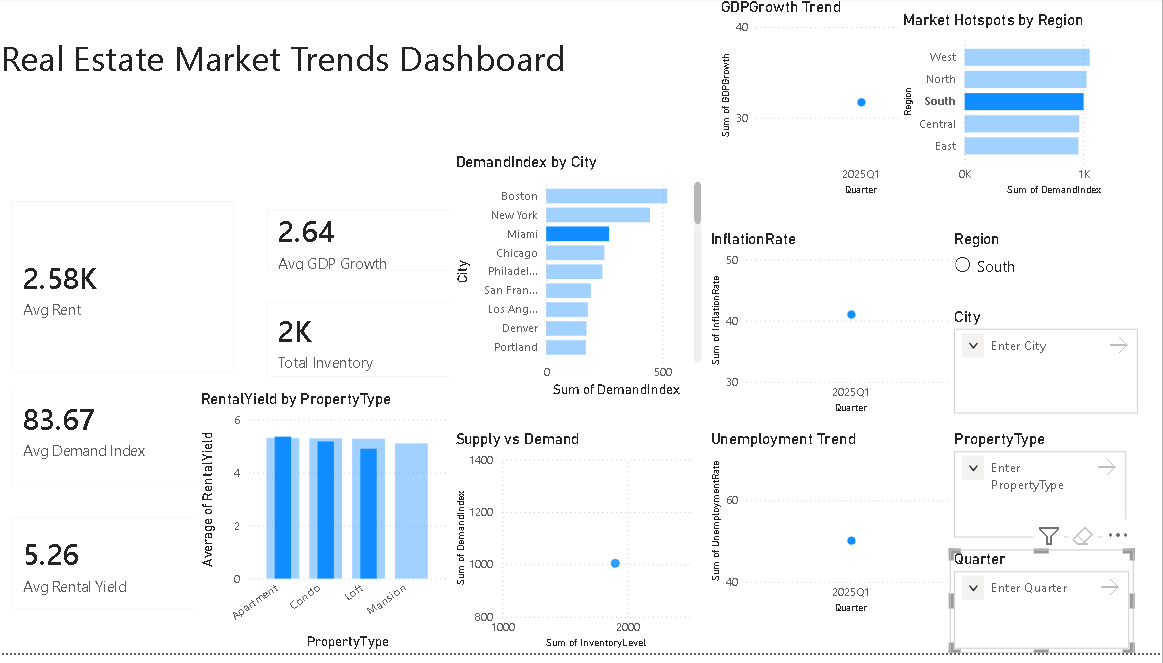

The page's visual inventory and layout, read from the dashboard file:
{"tool":"powerbi","page":{"name":"Page 1","canvas":[1280,720],"ordinal":0},"visuals":[{"type":"cardVisual","fields":{"Data":["real_estate_market_data.Avg Demand Index"]},"box":[0,392.5,279.9,161.9],"z":0},{"type":"cardVisual","fields":{"Data":["real_estate_market_data.Total Inventory"]},"box":[279.9,318.4,279.9,116.6],"z":1000},{"type":"cardVisual","fields":{"Data":["real_estate_market_data.Avg Rental Yield"]},"box":[0,554.4,279.9,135.8],"z":2000},{"type":"cardVisual","fields":{"Data":["real_estate_market_data.Avg GDP Growth"]},"box":[279.9,216.8,279.9,101.5],"z":3000},{"type":"cardVisual","fields":{"Data":["real_estate_market_data.Avg Rent"]},"box":[0,207.2,279.9,222.3],"z":4000},{"type":"clusteredColumnChart","title":"RentalYield by PropertyType","fields":{"Category":["real_estate_market_data.PropertyType"],"Y":["Avg(real_estate_market_data.RentalYield)"]},"box":[219.6,430.9,279.9,289.5],"z":5000},{"type":"clusteredBarChart","title":"DemandIndex by City","fields":{"Category":["real_estate_market_data.City"],"Y":["Sum(real_estate_market_data.DemandIndex)"]},"box":[499.5,170.2,279.9,274.4],"z":6000},{"type":"scatterChart","title":"Supply vs Demand","fields":{"X":["Sum(real_estate_market_data.InventoryLevel)"],"Y":["Sum(real_estate_market_data.DemandIndex)"]},"box":[499.5,474.8,279.9,245.6],"z":7000},{"type":"lineChart","title":"GDPGrowth Trend","fields":{"Category":["real_estate_market_data.Quarter"],"Y":["Sum(real_estate_market_data.GDPGrowth)"]},"box":[790.4,0,279.9,222.3],"z":8000},{"type":"lineChart","title":"InflationRate ","fields":{"Category":["real_estate_market_data.Quarter"],"Y":["Sum(real_estate_market_data.InflationRate)"]},"box":[779.4,255.2,279.9,207.2],"z":9000},{"type":"lineChart","title":"Unemployment Trend ","fields":{"Category":["real_estate_market_data.Quarter"],"Y":["Sum(real_estate_market_data.UnemploymentRate)"]},"box":[779.4,474.8,279.9,207.2],"z":10000},{"type":"clusteredBarChart","title":"Market Hotspots by Region","fields":{"Category":["real_estate_market_data.Region"],"Y":["Sum(real_estate_market_data.DemandIndex)"]},"box":[990.7,15.1,279.9,207.2],"z":11000},{"type":"textbox","box":[0,0,725.9,170.2],"z":11001},{"type":"listSlicer","fields":{"Values":["real_estate_market_data.Region"]},"box":[1047,255.2,223.7,94.7],"z":11002},{"type":"textSlicer","fields":{"Values":["real_estate_market_data.City"]},"box":[1047,340.3,211.3,122.1],"z":11003},{"type":"textSlicer","fields":{"Values":["real_estate_market_data.PropertyType"]},"box":[1047,474.8,199,123.5],"z":11004},{"type":"textSlicer","fields":{"Values":["real_estate_market_data.Quarter"]},"box":[1047,606.5,201.7,113.9],"z":11005}]}

Visuals, with their boxes in screenshot pixels (x1, y1, x2, y2), scaled from the page's 1280x720 canvas onto the 1163x663 screenshot:
cardVisual - real_estate_market_data.Avg Demand Index: <region>0, 361, 254, 511</region>
cardVisual - real_estate_market_data.Total Inventory: <region>254, 293, 509, 401</region>
cardVisual - real_estate_market_data.Avg Rental Yield: <region>0, 511, 254, 636</region>
cardVisual - real_estate_market_data.Avg GDP Growth: <region>254, 200, 509, 293</region>
cardVisual - real_estate_market_data.Avg Rent: <region>0, 191, 254, 395</region>
"RentalYield by PropertyType" clusteredColumnChart: <region>200, 397, 454, 662</region>
"DemandIndex by City" clusteredBarChart: <region>454, 157, 708, 409</region>
"Supply vs Demand" scatterChart: <region>454, 437, 708, 662</region>
"GDPGrowth Trend" lineChart: <region>718, 0, 972, 205</region>
"InflationRate " lineChart: <region>708, 235, 962, 426</region>
"Unemployment Trend " lineChart: <region>708, 437, 962, 628</region>
"Market Hotspots by Region" clusteredBarChart: <region>900, 14, 1154, 205</region>
textbox: <region>0, 0, 660, 157</region>
listSlicer - real_estate_market_data.Region: <region>951, 235, 1155, 322</region>
textSlicer - real_estate_market_data.City: <region>951, 313, 1143, 426</region>
textSlicer - real_estate_market_data.PropertyType: <region>951, 437, 1132, 551</region>
textSlicer - real_estate_market_data.Quarter: <region>951, 558, 1135, 662</region>
